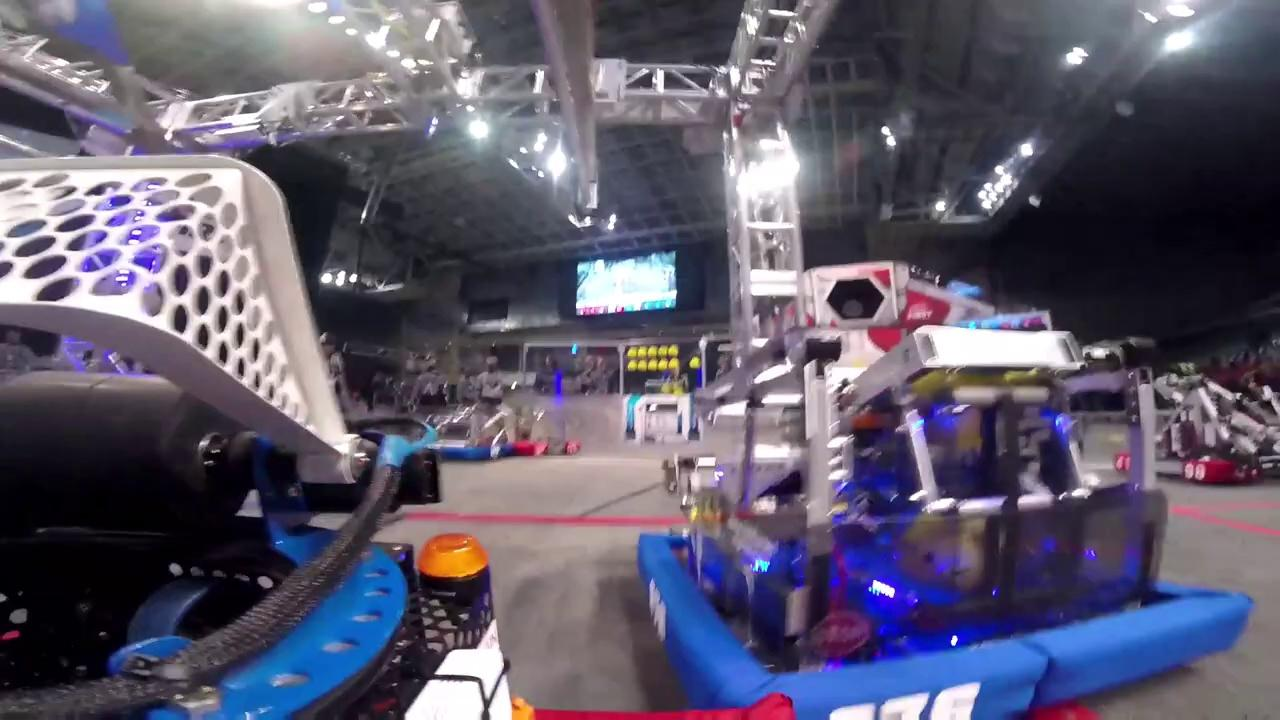robot: (633, 313, 1258, 720), (428, 405, 514, 465), (514, 409, 582, 458)
